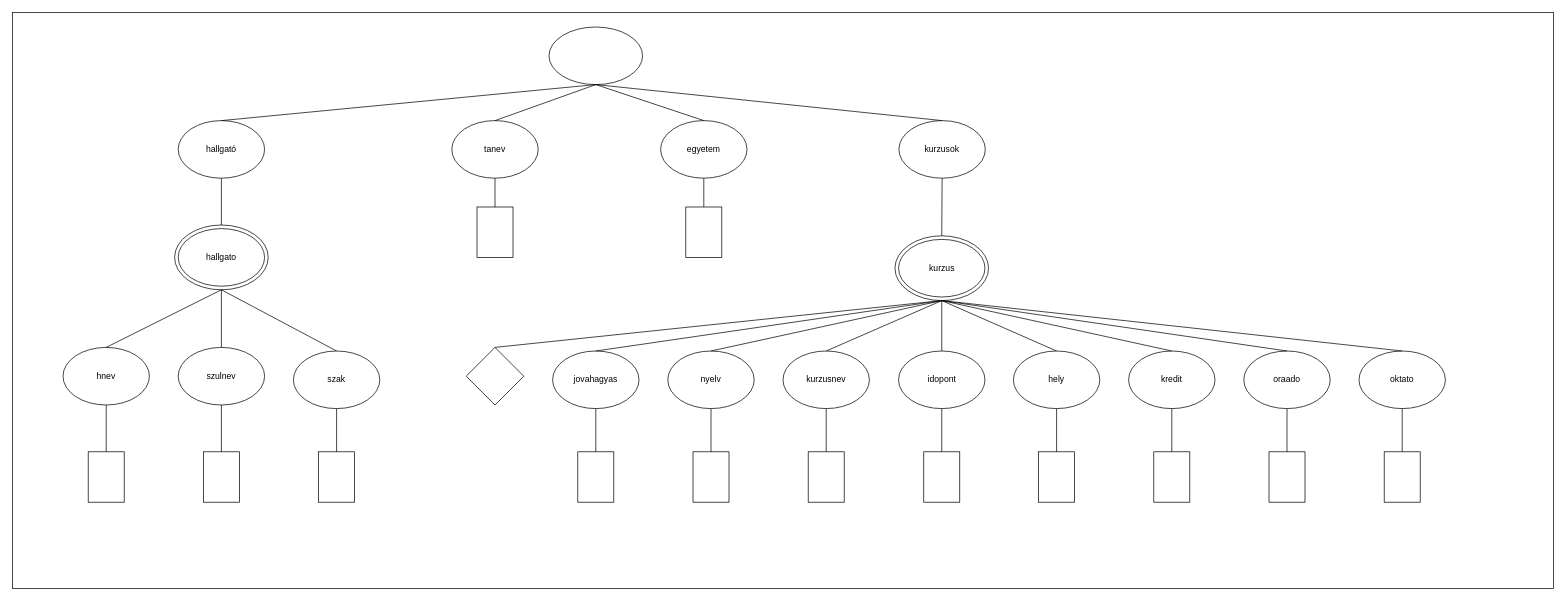
Image size: 1566x601. Some labels were removed from this diagram. Here are the shapes that lost their labels. From the top down, the centre of each, then its label:
the point at 595,55: MO0VEY_kurzusfelvetel
the point at 494,376: id
